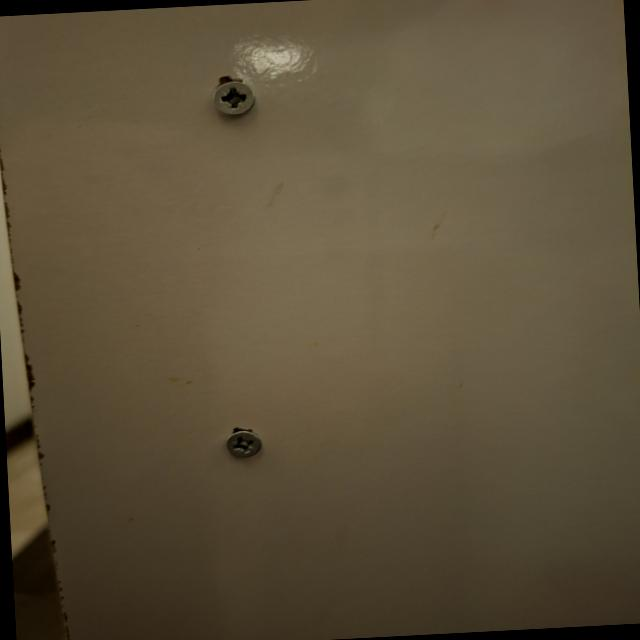Pozidriv: (218, 427, 268, 464), (210, 82, 258, 119)
